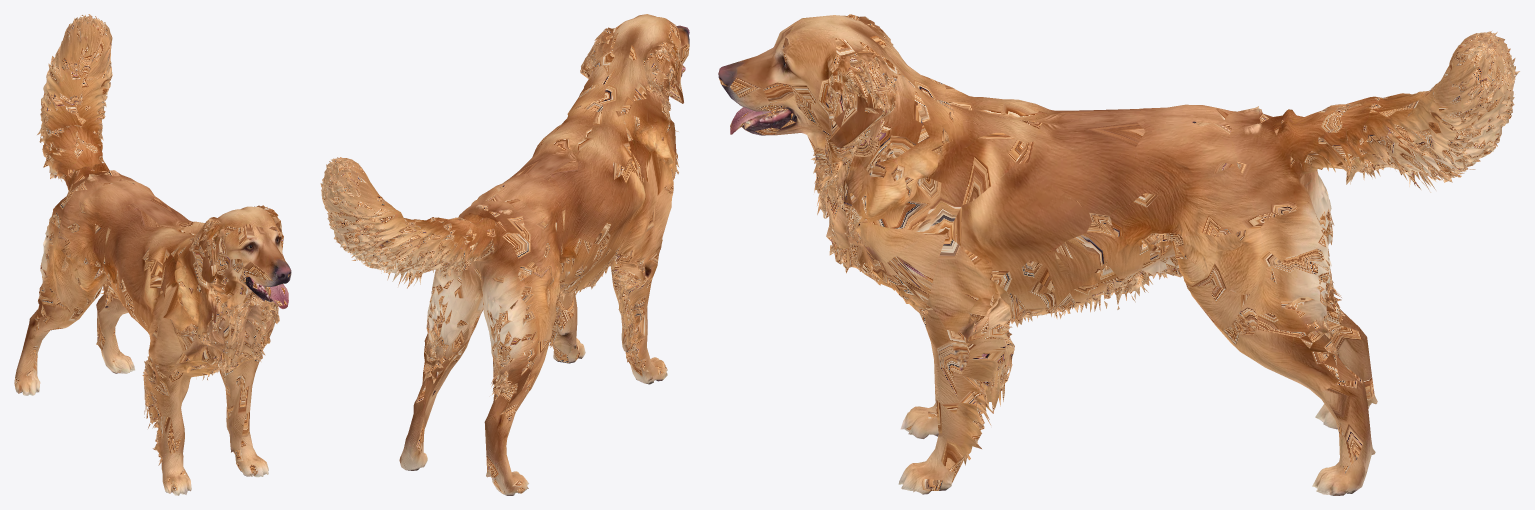
Rendered from dog.glb.
The picture shows the model from 3 angles, left to right: view 1: azimuth 30°, elevation 25°; view 2: azimuth 150°, elevation 25°; view 3: azimuth 270°, elevation 25°; orthographic projection. The views are drawn at different scales.
Size of the model in its own units: 0.5737 by 1.22 by 1.89.
1 material, 1 textured.
